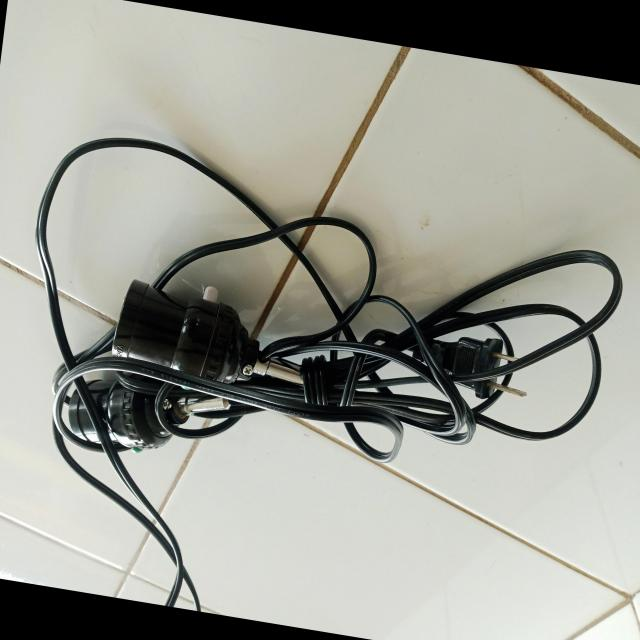Bulb Socket: (13, 199, 557, 537)
